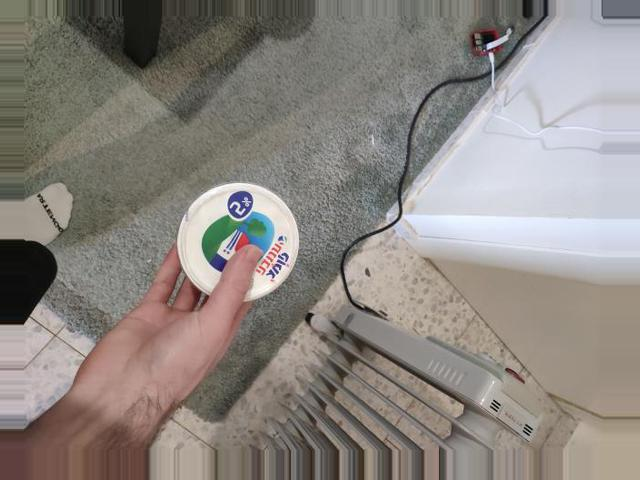cotage: (180, 188, 293, 301)
